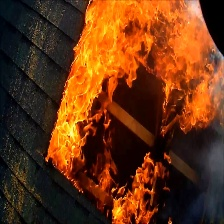fire: (40, 2, 217, 220)
